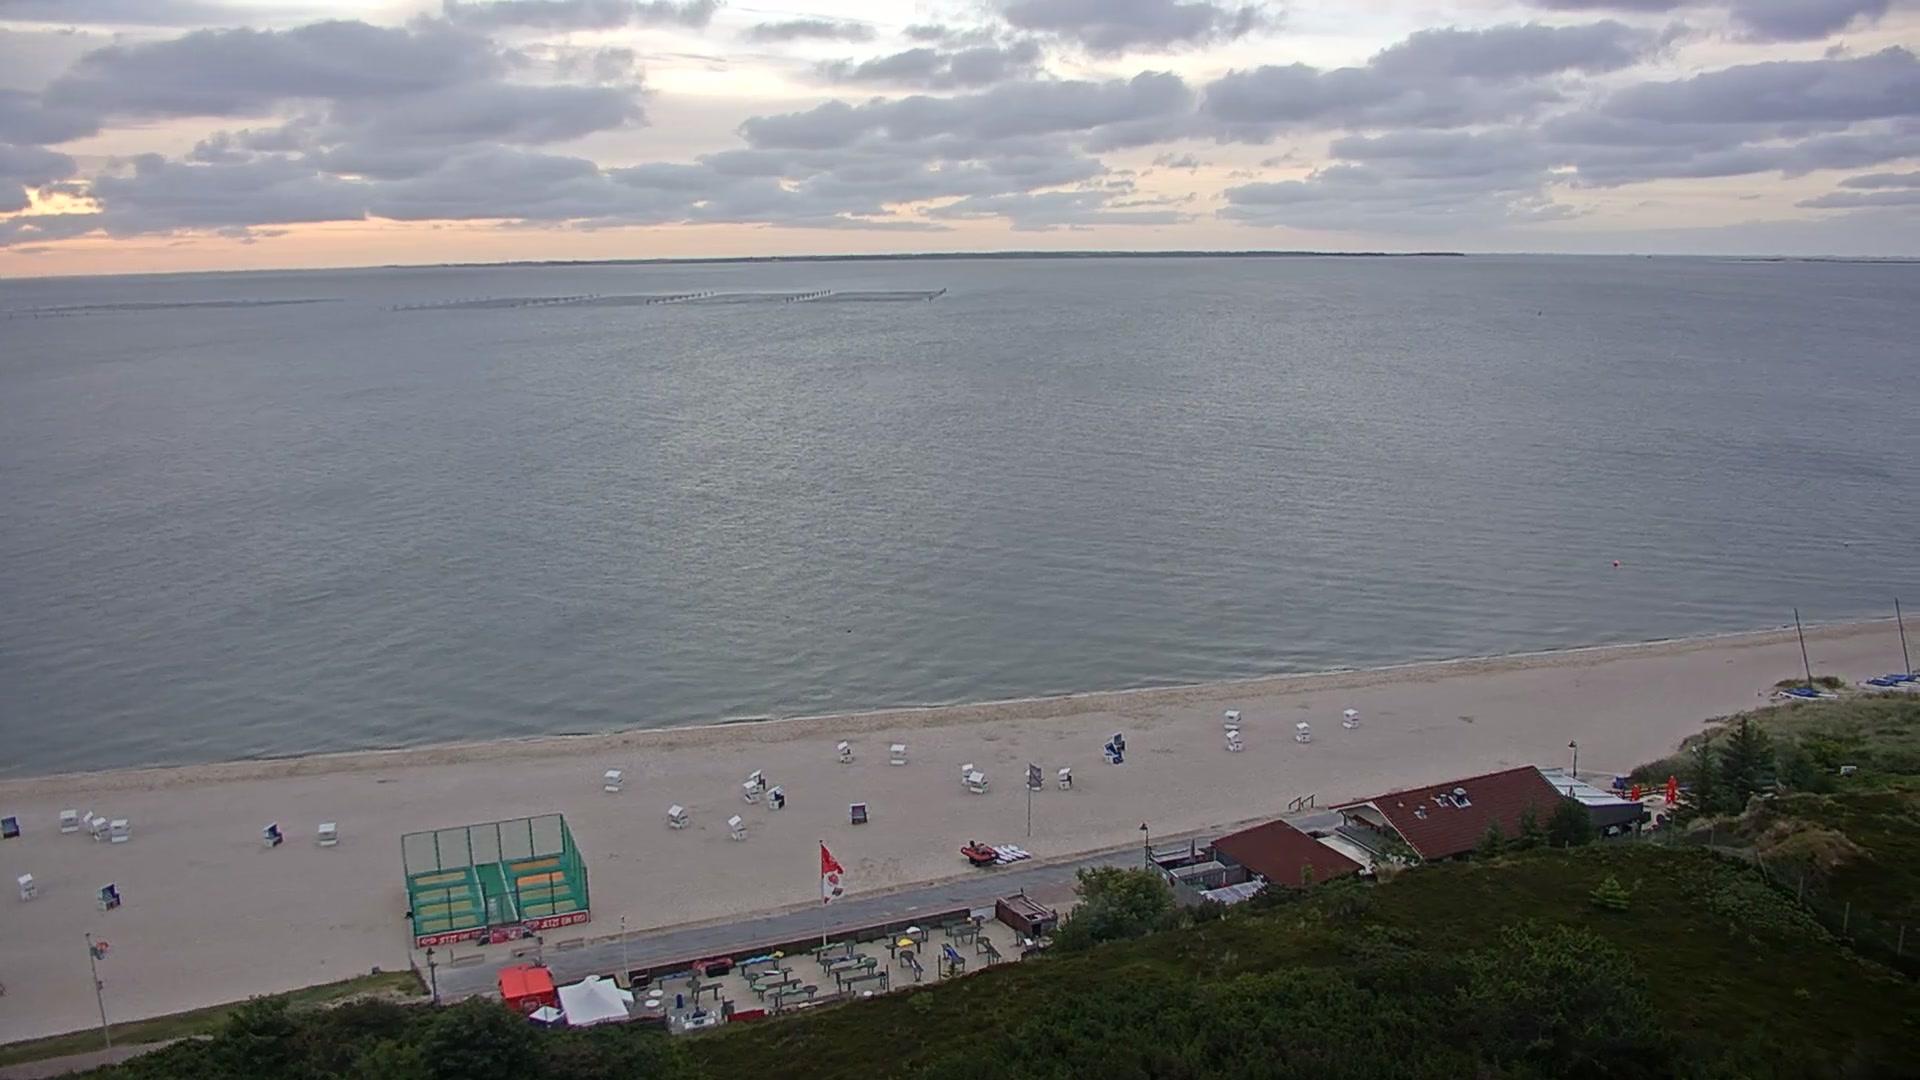human: (690, 1005, 705, 1025)
sea: (1776, 607, 1833, 699), (1881, 596, 1920, 686), (961, 838, 998, 862)
